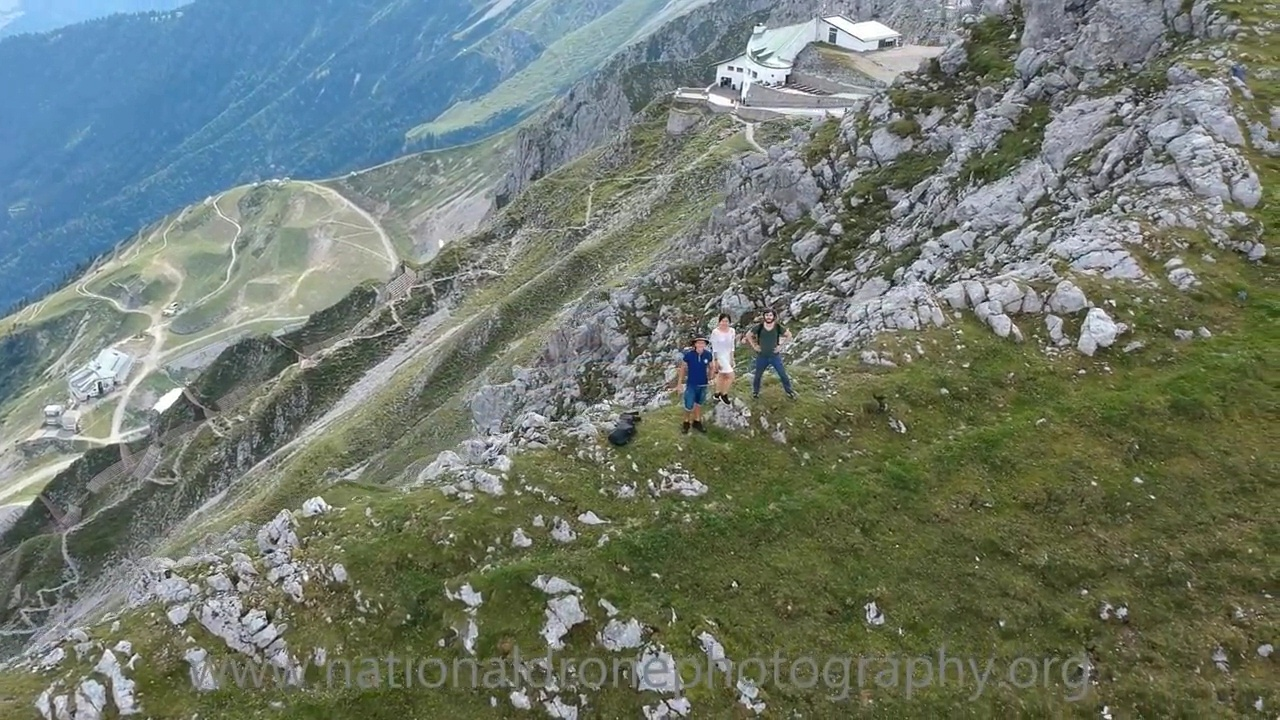insan: (746, 306, 801, 401), (678, 332, 710, 434), (712, 310, 734, 405)
